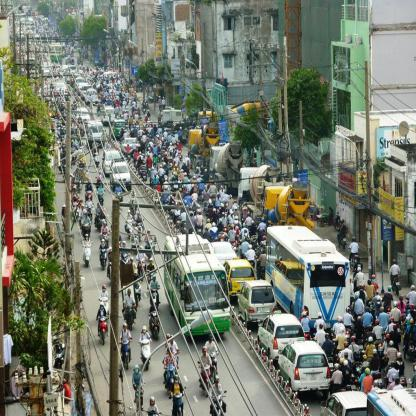face: (175, 378, 178, 383), (216, 381, 219, 386), (204, 350, 207, 355), (136, 370, 139, 375), (194, 291, 197, 296), (210, 338, 213, 342), (171, 338, 174, 342), (124, 326, 127, 330), (101, 306, 104, 310), (120, 255, 122, 260), (218, 290, 220, 295), (72, 238, 75, 241), (72, 186, 75, 189), (152, 401, 154, 405), (144, 330, 146, 334), (104, 288, 106, 292), (129, 292, 131, 296), (154, 278, 156, 282), (154, 304, 156, 308), (171, 350, 173, 353), (169, 352, 171, 355), (169, 338, 171, 341), (151, 261, 153, 264), (143, 264, 145, 267), (87, 236, 89, 239), (110, 249, 112, 252), (124, 243, 126, 246), (119, 244, 121, 247), (127, 259, 129, 262), (131, 253, 133, 256), (152, 236, 154, 239), (101, 183, 103, 186), (84, 214, 86, 217), (64, 208, 66, 211), (90, 197, 92, 200), (79, 206, 81, 209), (81, 201, 83, 204), (75, 197, 77, 200), (87, 192, 89, 195), (75, 184, 77, 187), (135, 274, 137, 276), (141, 262, 143, 264), (132, 261, 134, 263), (103, 242, 105, 244), (149, 232, 151, 234), (134, 224, 136, 226), (130, 223, 132, 225), (140, 217, 142, 219), (129, 214, 131, 216), (128, 217, 130, 219), (118, 185, 120, 187), (120, 182, 122, 184), (99, 174, 101, 176), (104, 224, 106, 226), (86, 215, 88, 217), (98, 206, 100, 208), (101, 208, 103, 210), (89, 184, 91, 186), (129, 257, 130, 260), (127, 253, 128, 256), (128, 254, 129, 257), (75, 189, 76, 192), (132, 222, 133, 224), (133, 219, 134, 221), (138, 215, 139, 217), (107, 221, 108, 223), (83, 207, 84, 209), (103, 214, 104, 216), (89, 199, 90, 201), (89, 180, 90, 182)
